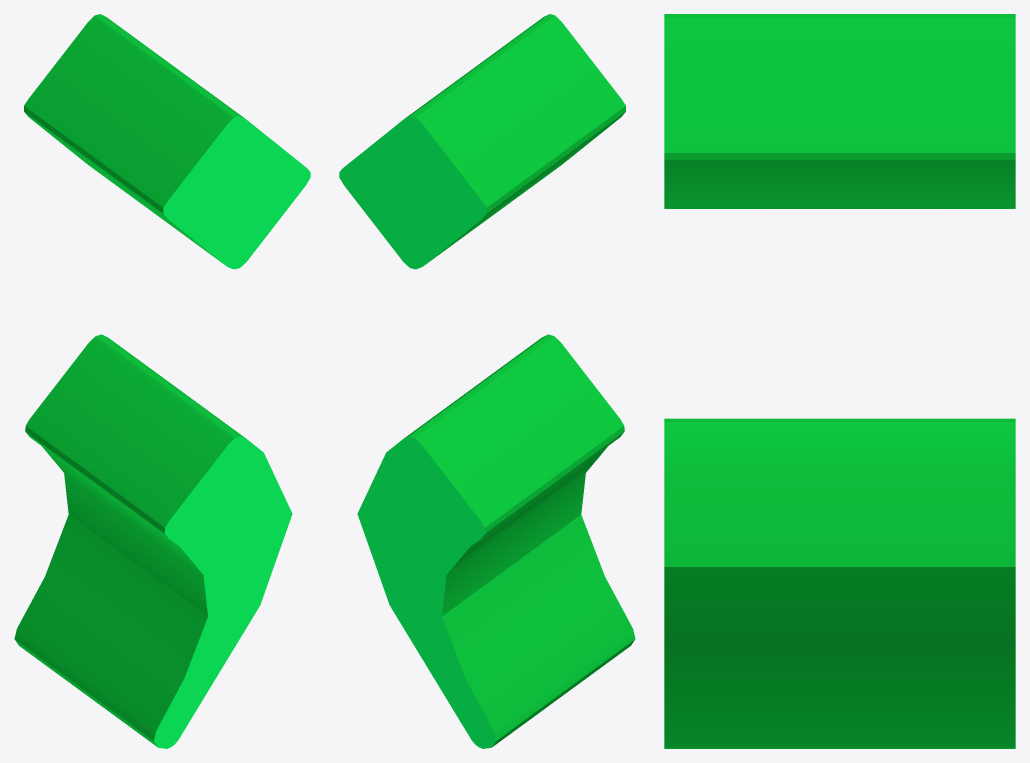
3 renders of one model, left to right at view 1: azimuth 30°, elevation 25°; view 2: azimuth 150°, elevation 25°; view 3: azimuth 270°, elevation 25°, orthographic. The views are drawn at different scales.
Parts seen in each view (by area): view 1: ;_Soul_Green; view 2: ;_Soul_Green; view 3: ;_Soul_Green.
Boxes of the visible parts, <box> form: ;_Soul_Green: <box>14,14,310,748</box>; ;_Soul_Green: <box>339,14,635,748</box>; ;_Soul_Green: <box>664,14,1015,748</box>.
Size of what is drawn, in the model's own units: 0.0292 by 0.1095 by 0.045.
Materials: 2 (2 with a texture image).
